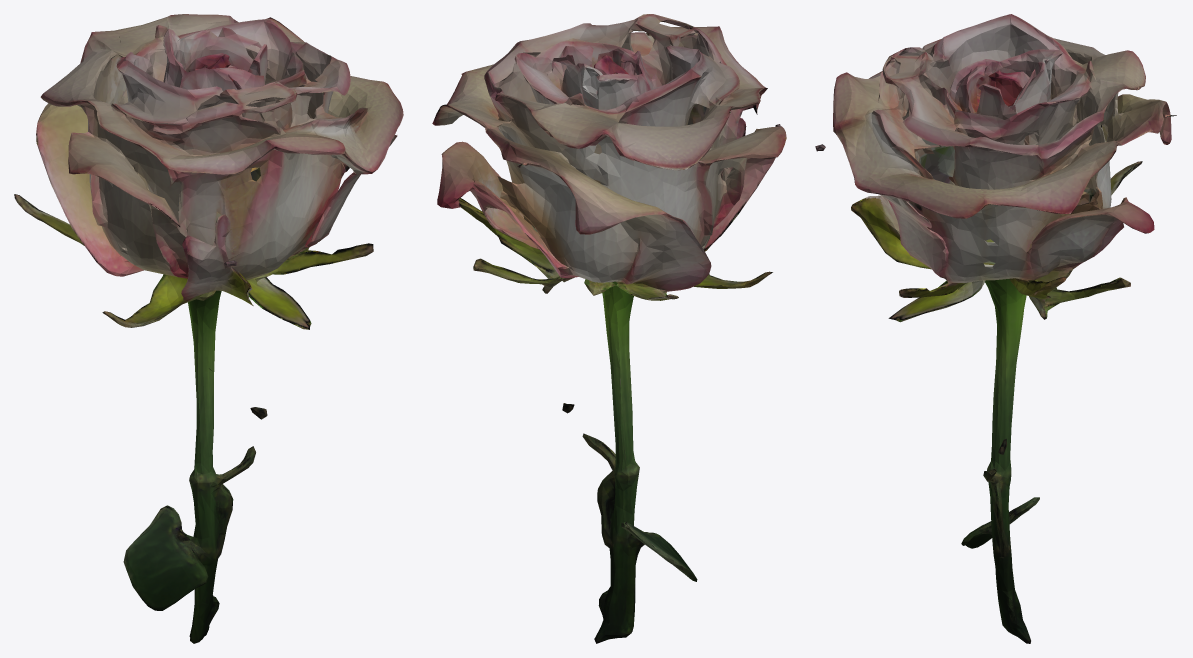
The picture shows the model from 3 angles, left to right: view 1: azimuth 30°, elevation 25°; view 2: azimuth 150°, elevation 25°; view 3: azimuth 270°, elevation 25°; orthographic projection. The views are drawn at different scales.
Visible parts, largest first — view 1: world; view 2: world; view 3: world.
Part boxes in pixels (left/top/right/bottom): world: left=14, top=14, right=403, bottom=643; world: left=432, top=14, right=786, bottom=643; world: left=815, top=14, right=1176, bottom=643.
Size of the model in its own units: 0.5278 by 0.938 by 0.5249.
Materials: 1 (1 with a texture image).
